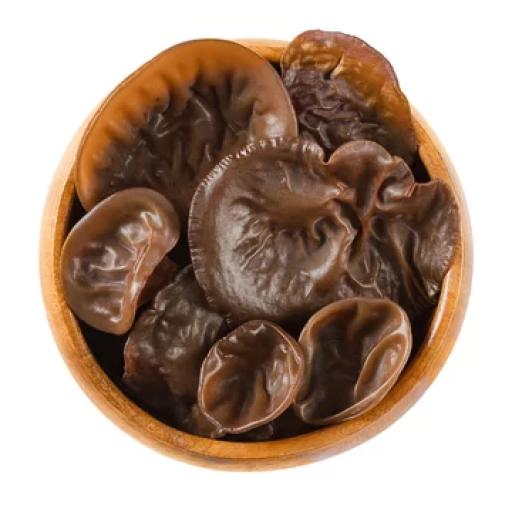Wood Ear Mushroom: (59, 31, 471, 444)
